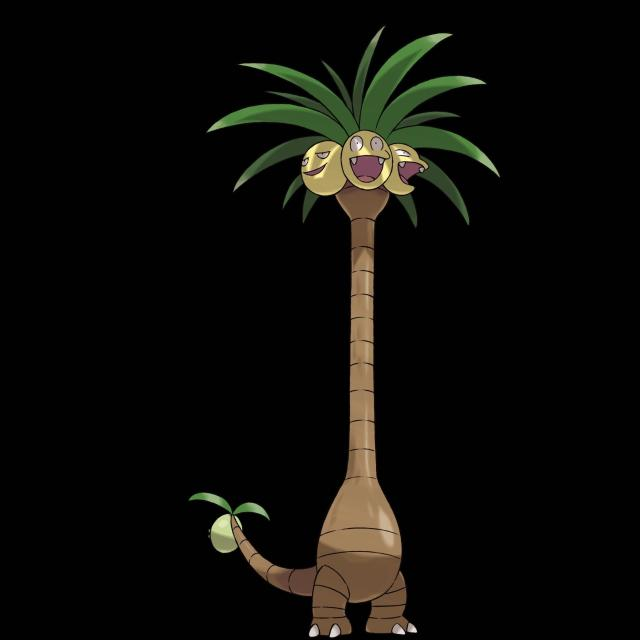Exeggutor: (263, 56, 445, 640)
